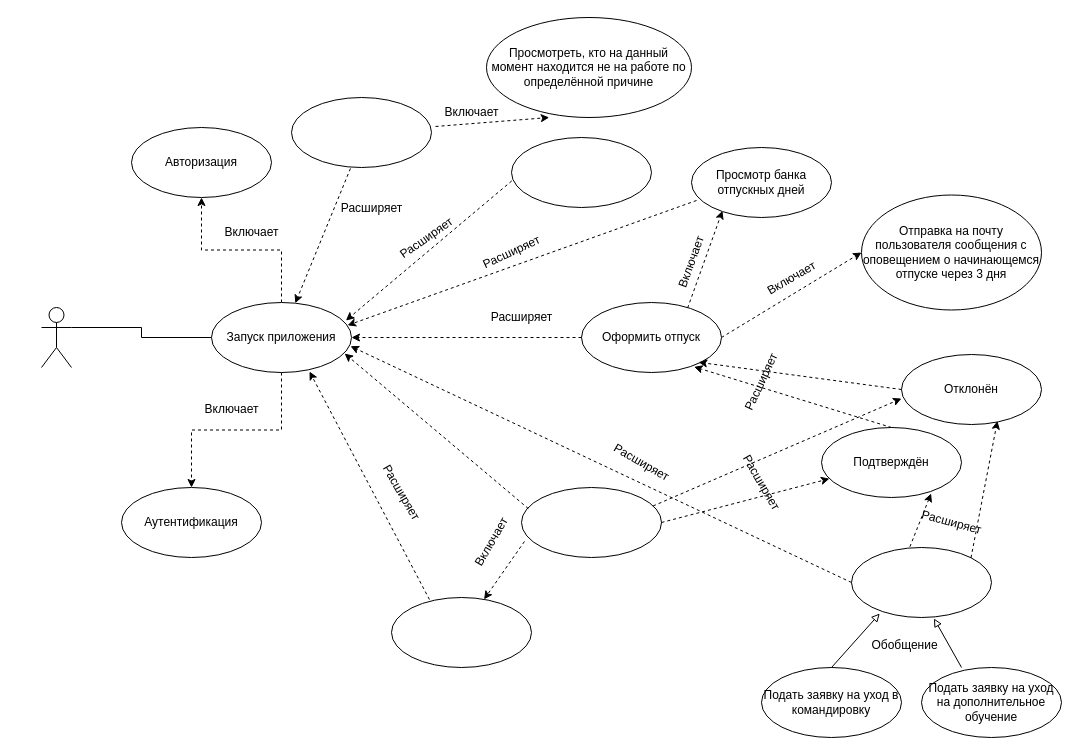
This 1079x755 diagram has some shape labels left out. The centre of each missing label's shape, as x and y in pixels:
"Взять отгул" belongs at point (591, 522).
"Оформить больничный" belongs at point (581, 172).
"Подать заявку на мероприятие" belongs at point (921, 582).
"Пользователь" belongs at point (56, 337).
"Просмотр баланса отгулов" belongs at point (461, 632).
"Просмотр календаря" belongs at point (361, 132).
